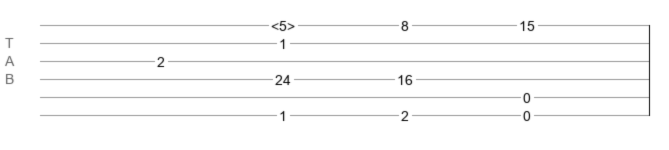0: (523, 108, 531, 118), (523, 90, 531, 100)
1: (279, 108, 287, 118), (279, 36, 287, 46)
15: (519, 18, 535, 28)
16: (397, 72, 413, 82)
2: (157, 54, 165, 64), (401, 108, 409, 118)
24: (275, 72, 291, 82)
8: (401, 18, 409, 28)
harmonic: (271, 18, 295, 28)
